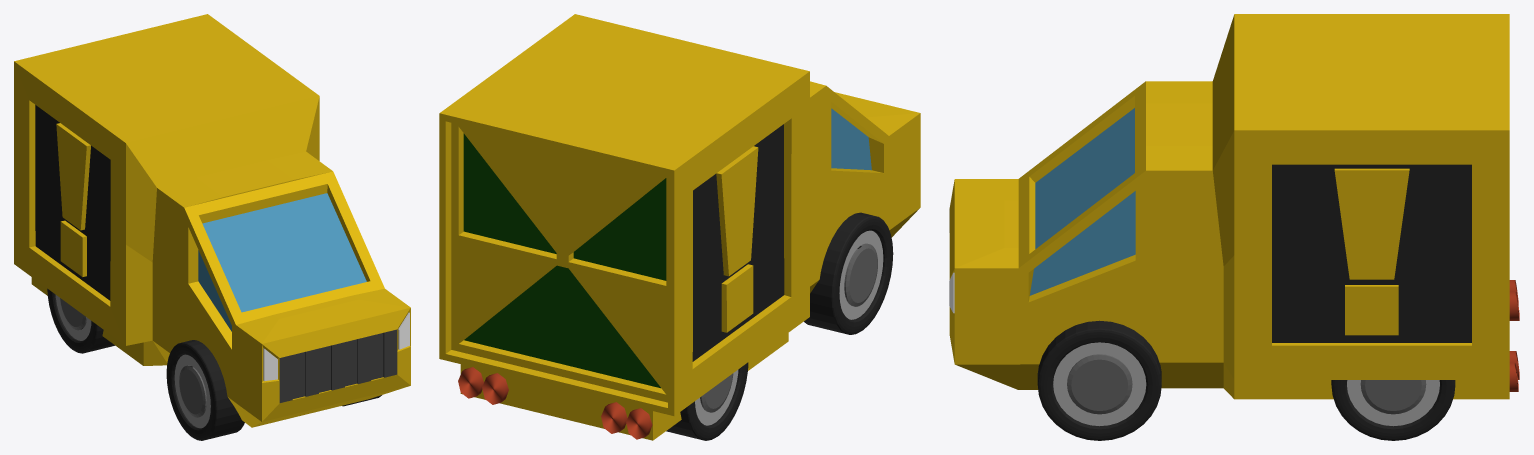
The model's file is !truck[obj].fbx.
The picture shows the model from 3 angles, left to right: view 1: azimuth 30°, elevation 25°; view 2: azimuth 150°, elevation 25°; view 3: azimuth 270°, elevation 25°; orthographic projection. The views are drawn at different scales.
Visible parts, largest first — view 1: Model_0, Cylinder, Cylinder.002, Headlights_Model; view 2: Model_0, Cylinder, Cylinder.002, Taillights_Model; view 3: Model_0, Cylinder.001, Cylinder.003, Taillights_Model.
Part boxes in pixels (<box>): Model_0: <box>14,14,410,427</box>; Cylinder: <box>166,340,244,440</box>; Cylinder.002: <box>47,288,114,353</box>; Headlights_Model: <box>263,312,409,381</box>; Model_0: <box>439,14,920,440</box>; Cylinder: <box>804,212,893,334</box>; Cylinder.002: <box>666,362,748,440</box>; Taillights_Model: <box>458,367,652,439</box>; Model_0: <box>949,14,1509,399</box>; Cylinder.001: <box>1037,320,1161,440</box>; Cylinder.003: <box>1331,380,1455,440</box>; Taillights_Model: <box>1509,280,1519,391</box>.
Bounding box in the file's own units: 250 × 317 × 518.
Materials: 1 (1 with a texture image).
